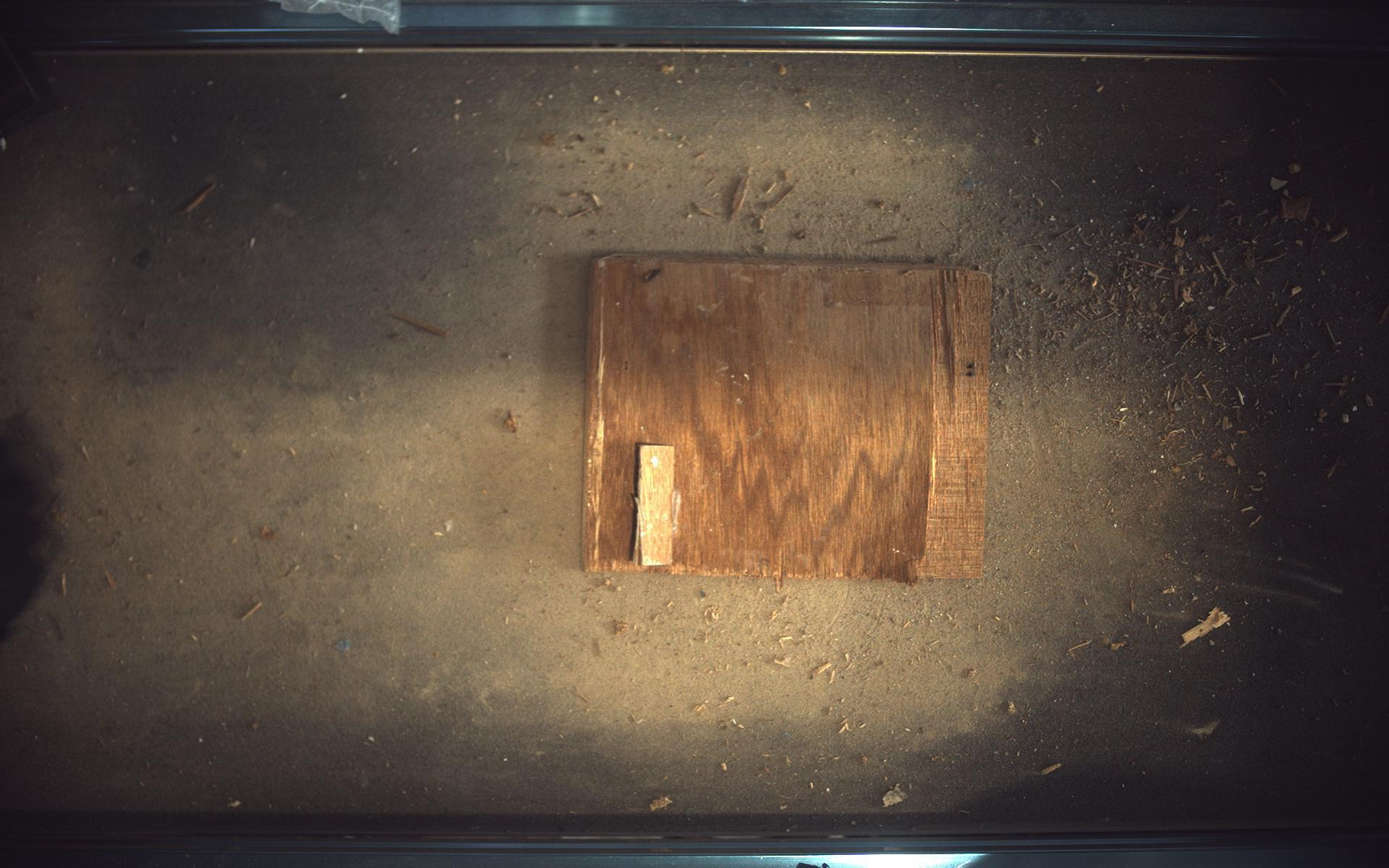wood: (584, 254, 993, 582)
